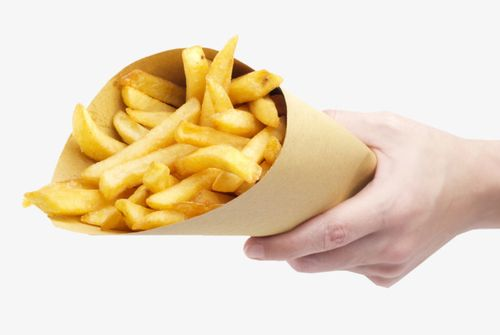no-phone: (16, 35, 489, 294)
